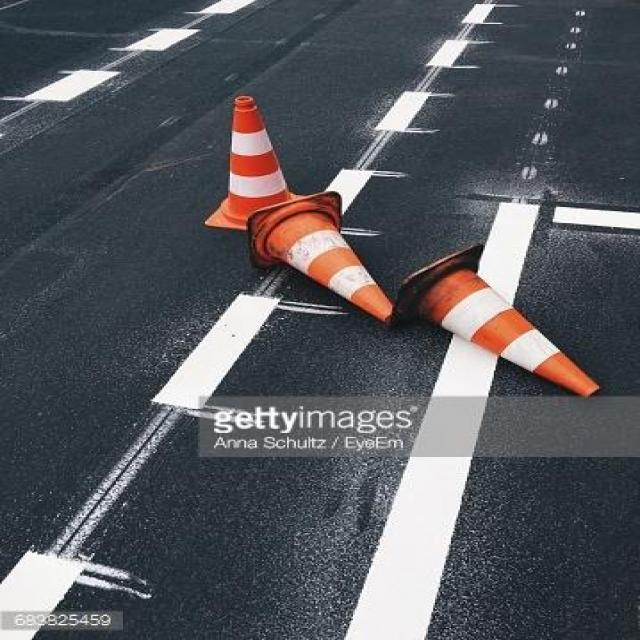Cone: (391, 243, 606, 396), (243, 192, 392, 322), (203, 96, 344, 231)
